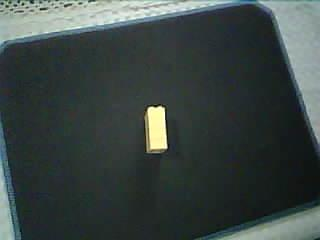lego: (142, 104, 169, 154)
